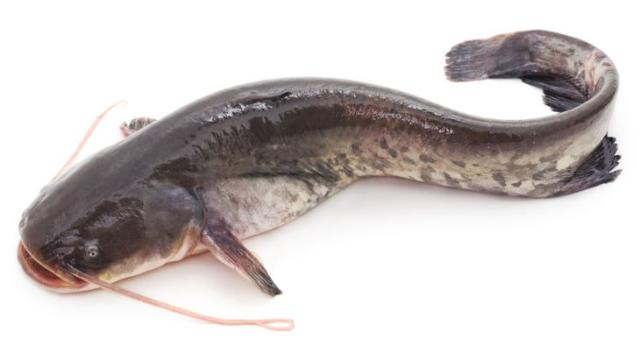Mulut: (2, 197, 98, 307)
Sirip Anal: (541, 127, 633, 207)
Sirip Dada: (193, 202, 291, 302), (114, 102, 168, 158)
Sirip Ekor: (424, 18, 536, 104)
